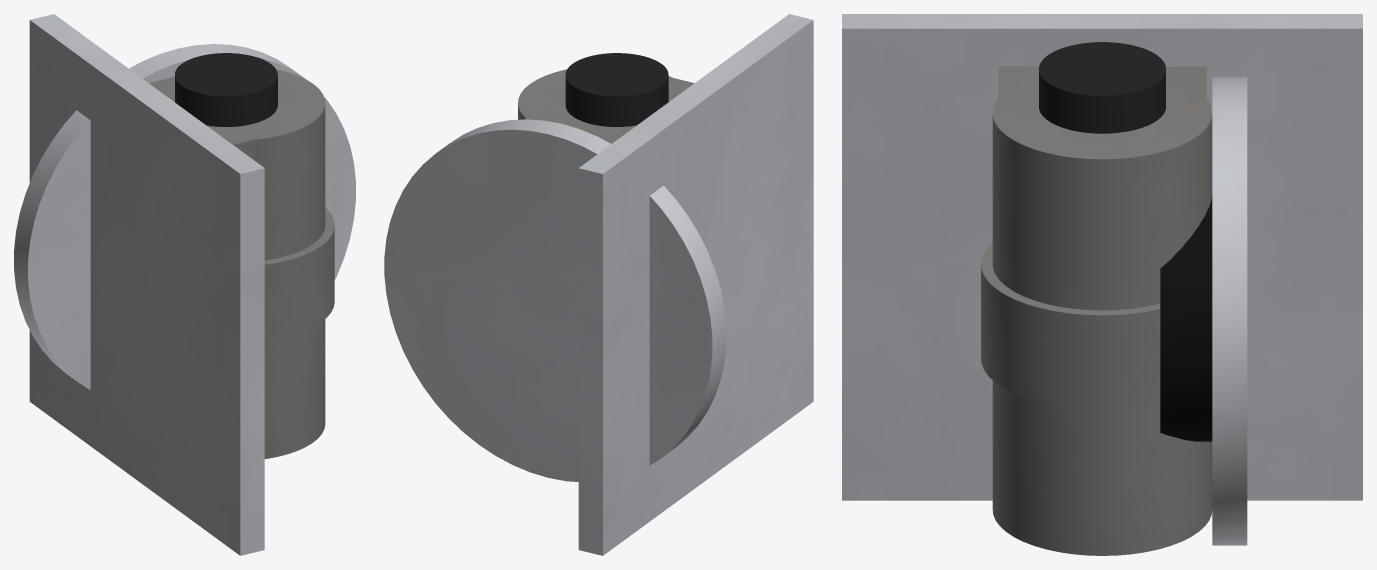
File: rover18_steering_module_l_crab.glb
3 views of the same model, side by side, from view 1: azimuth 30°, elevation 25°; view 2: azimuth 150°, elevation 25°; view 3: azimuth 270°, elevation 25° (orthographic). The views are drawn at different scales.
Parts seen in each view (by area): view 1: mount_flange, slew_ring, half_b_flange, steer_motor, yoke; view 2: mount_flange, half_b_flange, steer_motor, slew_ring, yoke; view 3: mount_flange, slew_ring, half_b_flange, half_b_neck, steer_motor, yoke.
Boxes of the visible parts, x1,y1,x2,y2 form: mount_flange: (29,14,264,555); slew_ring: (165,69,334,458); half_b_flange: (14,44,355,389); steer_motor: (175,53,277,126); yoke: (149,77,259,159); mount_flange: (578,14,813,555); half_b_flange: (384,119,726,481); steer_motor: (565,53,668,126); slew_ring: (518,69,686,140); yoke: (575,77,694,143); mount_flange: (842,14,1362,500); slew_ring: (981,75,1212,555); half_b_flange: (1212,76,1247,545); half_b_neck: (1160,195,1212,441); steer_motor: (1039,42,1165,133); yoke: (998,66,1206,112).
Size of the model in its own units: 0.4044 by 0.45 by 0.45.
4 materials, 2 textured.
